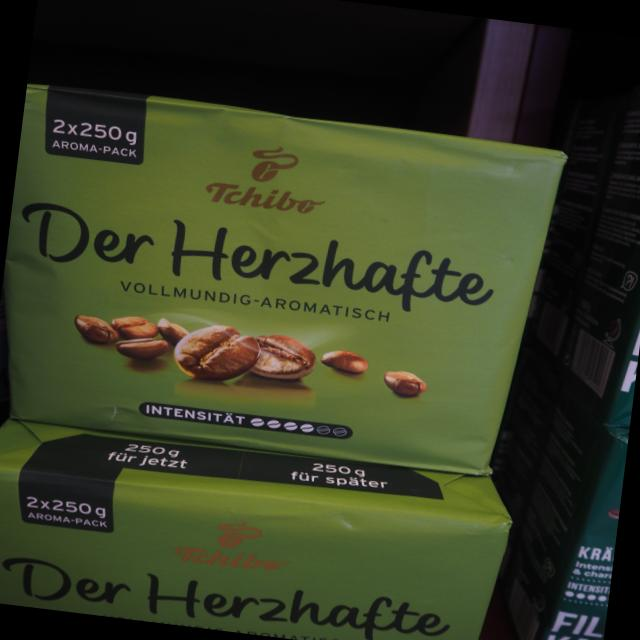Herzhatfe Mundig: (5, 77, 574, 479), (0, 464, 517, 640)
